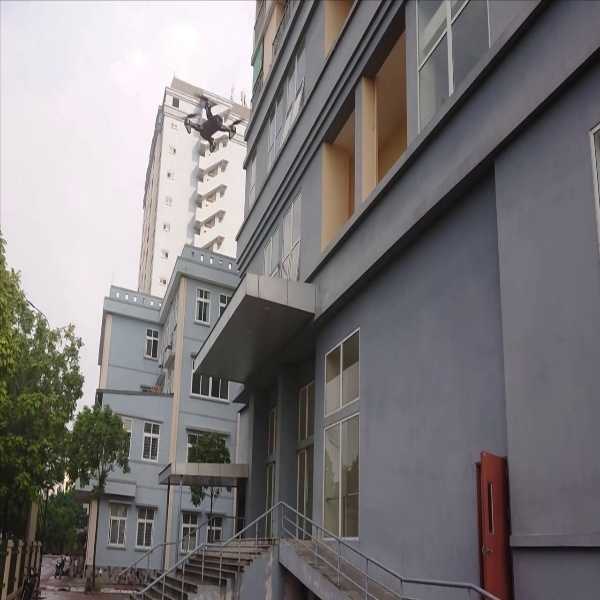drone: (178, 90, 247, 158)
